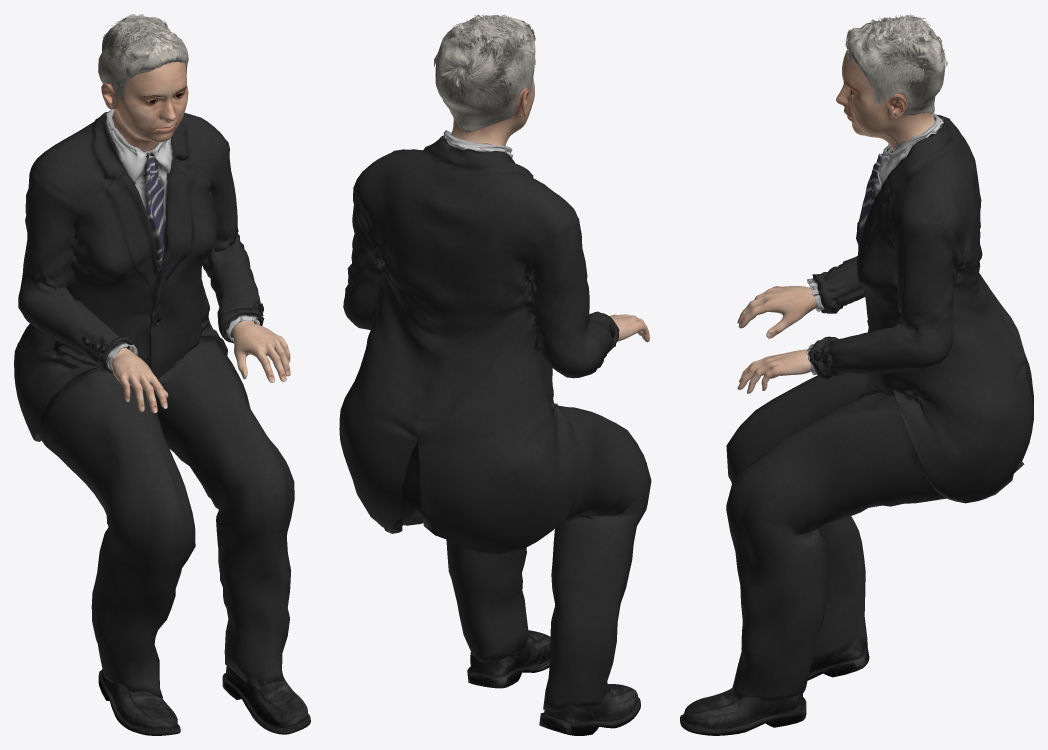
Rendered from seated-edge.glb.
3 renders of one model, left to right at view 1: azimuth 30°, elevation 25°; view 2: azimuth 150°, elevation 25°; view 3: azimuth 270°, elevation 25°, orthographic. The views are drawn at different scales.
Visible parts, largest first — view 1: male_elegantsuit01, Harper | anatomical body, shoes04, short01; view 2: male_elegantsuit01, short01, shoes04, Harper | anatomical body; view 3: male_elegantsuit01, Harper | anatomical body, short01, shoes04.
Part boxes in pixels (x1=…): male_elegantsuit01: x1=14, y1=109, x2=294, y2=698; Harper | anatomical body: x1=101, y1=62, x2=290, y2=413; shoes04: x1=98, y1=666, x2=310, y2=735; short01: x1=98, y1=14, x2=188, y2=98; male_elegantsuit01: x1=339, y1=130, x2=651, y2=711; short01: x1=434, y1=14, x2=535, y2=132; shoes04: x1=467, y1=630, x2=640, y2=735; Harper | anatomical body: x1=451, y1=78, x2=649, y2=342; male_elegantsuit01: x1=726, y1=112, x2=1033, y2=701; Harper | anatomical body: x1=737, y1=48, x2=935, y2=393; short01: x1=845, y1=14, x2=947, y2=115; shoes04: x1=680, y1=644, x2=869, y2=735.
Bounding box in the file's own units: 0.5173 × 1.45 × 0.6777.
Materials: 9 (9 with a texture image).
